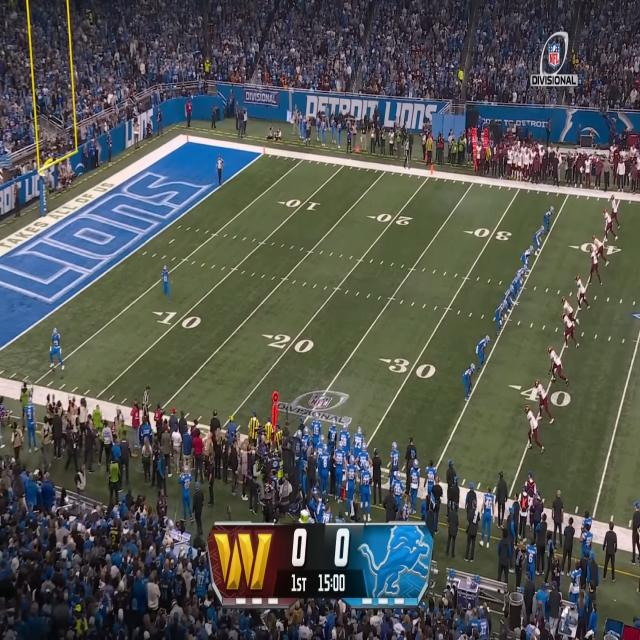Ball: (52, 365, 56, 374)
